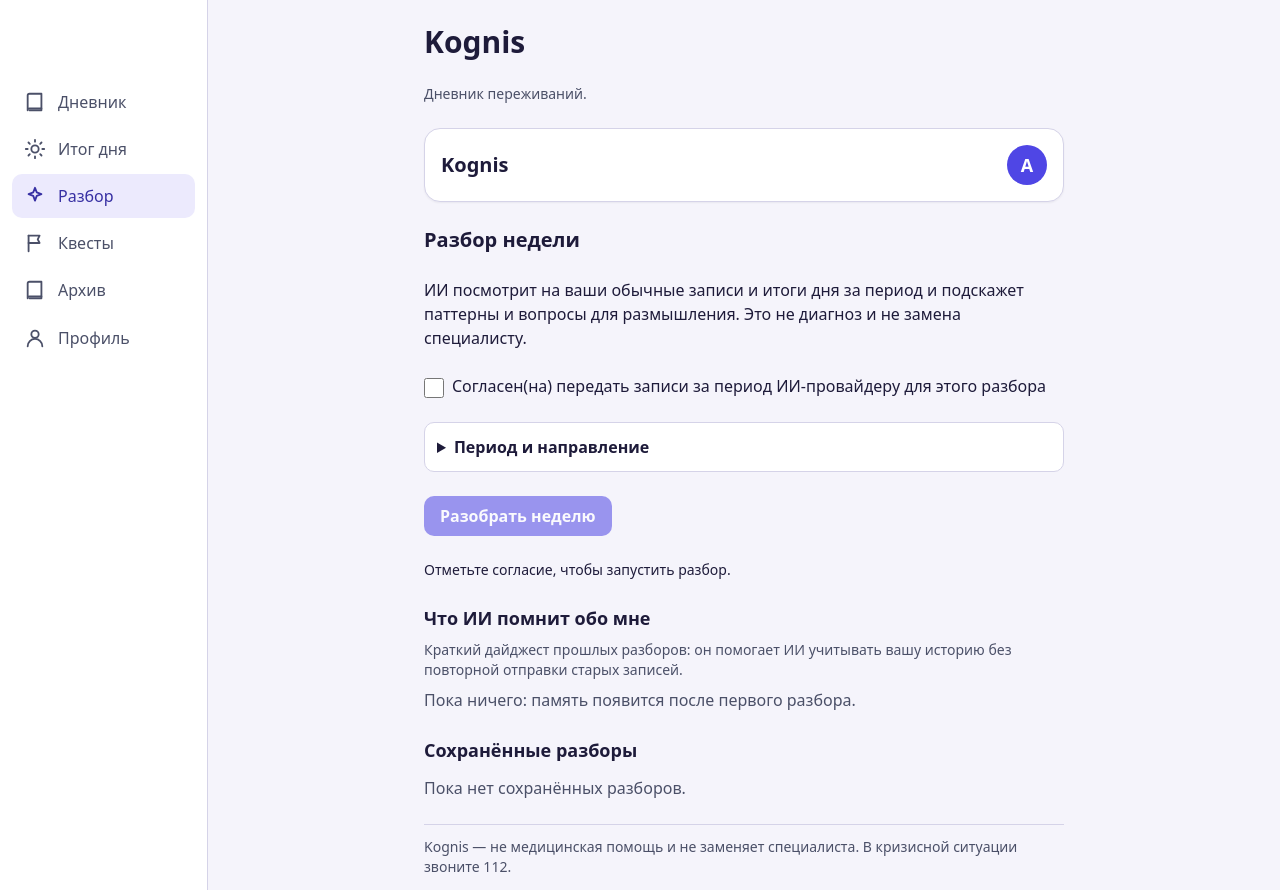
Scenario: если новых записей нет, разбор неактивен и есть ссылка на последний
Click the checkbox labelled "Согласен". click: (434, 388)
box: [424, 378, 444, 398]
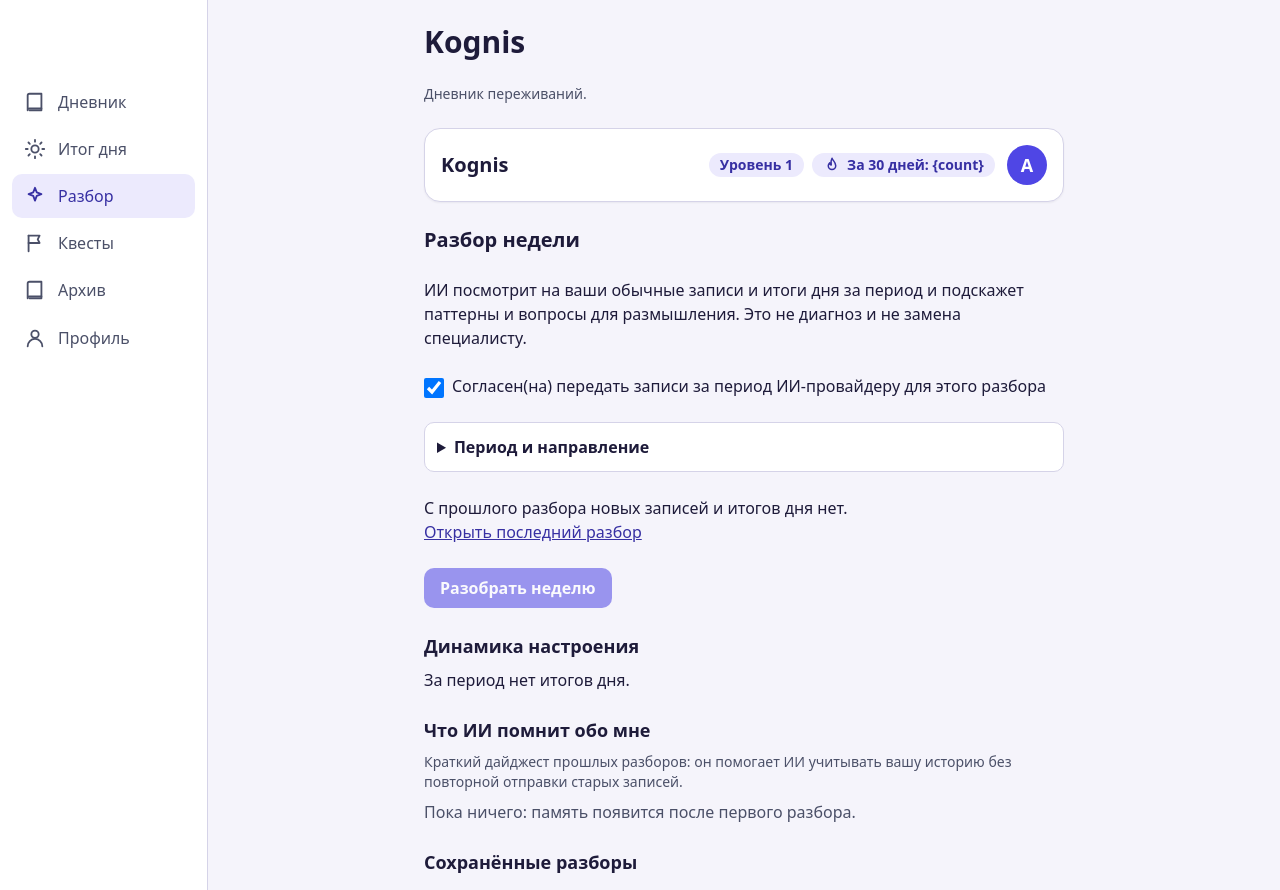
Expected: the button with test id "run-analysis" is disabled, [424, 568, 612, 608]
Expected: the element with test id "analysis-no-new" shows "новых записей", [424, 497, 848, 519]
Click the button "Открыть последний разбор". click: (533, 532)
box: [424, 520, 642, 544]
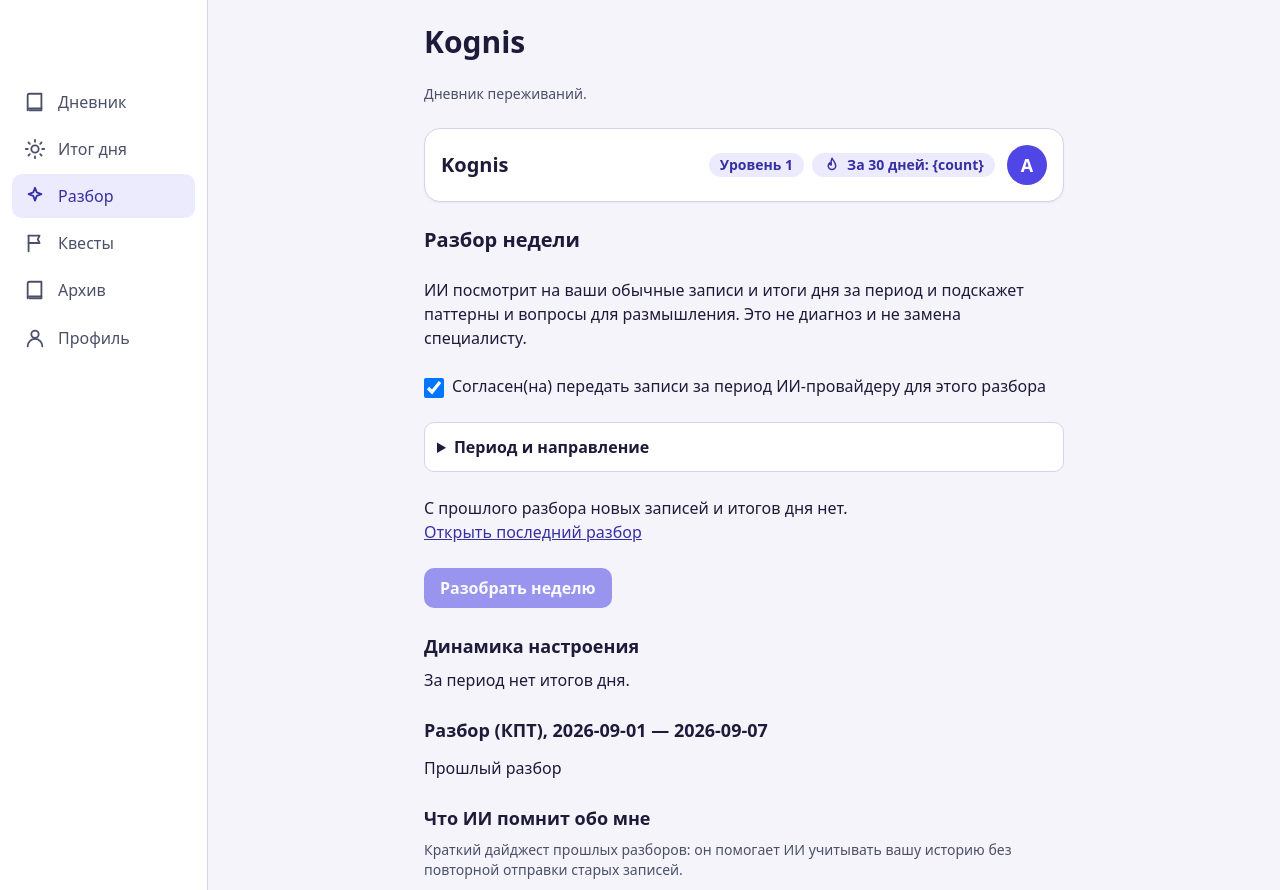
Expected: the element with test id "analysis-result" shows "Прошлый разбор", [424, 757, 562, 779]
